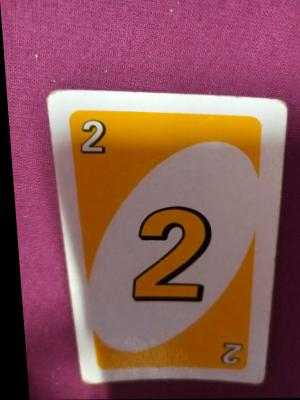num_2: (107, 194, 237, 315), (61, 107, 123, 178), (200, 323, 248, 374)
